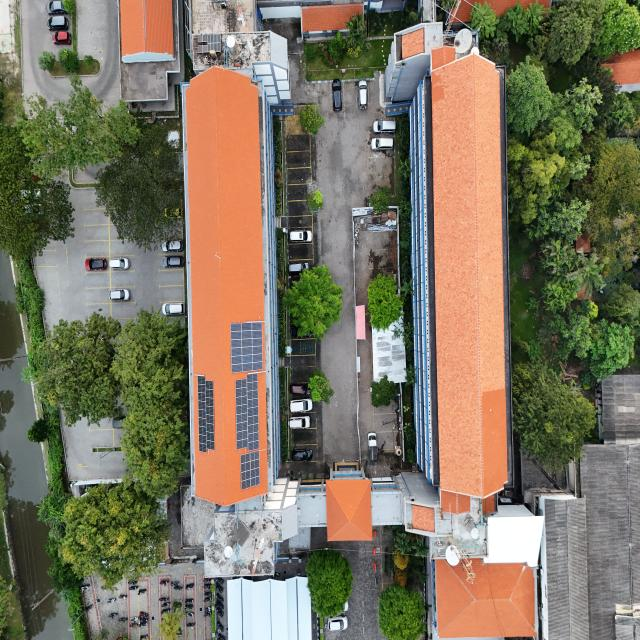Tree: (305, 550, 355, 617), (379, 585, 425, 640), (368, 273, 401, 329), (502, 2, 527, 39), (472, 2, 497, 37), (298, 103, 325, 135), (159, 606, 183, 640), (57, 44, 81, 77), (366, 187, 394, 213), (38, 48, 59, 78), (305, 190, 319, 211), (80, 50, 94, 70)
